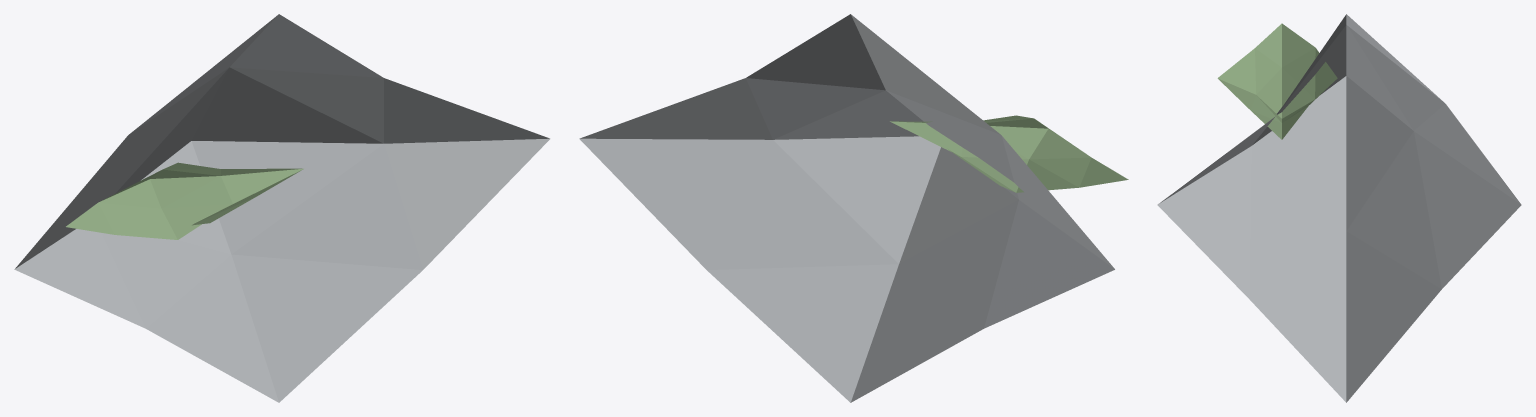
Rendered from boulder_v39.glb.
3 views of the same model, side by side, from view 1: azimuth 30°, elevation 25°; view 2: azimuth 150°, elevation 25°; view 3: azimuth 270°, elevation 25° (orthographic).
Visible parts, largest first — view 1: lod0; view 2: lod0; view 3: lod0.
Part boxes in pixels (x1,y1,x2,y2): lod0: (14, 14, 550, 402); lod0: (579, 14, 1128, 402); lod0: (1157, 14, 1521, 402).
Size of what is drawn, in the model's own units: 3.46 by 2.4 by 2.04.
